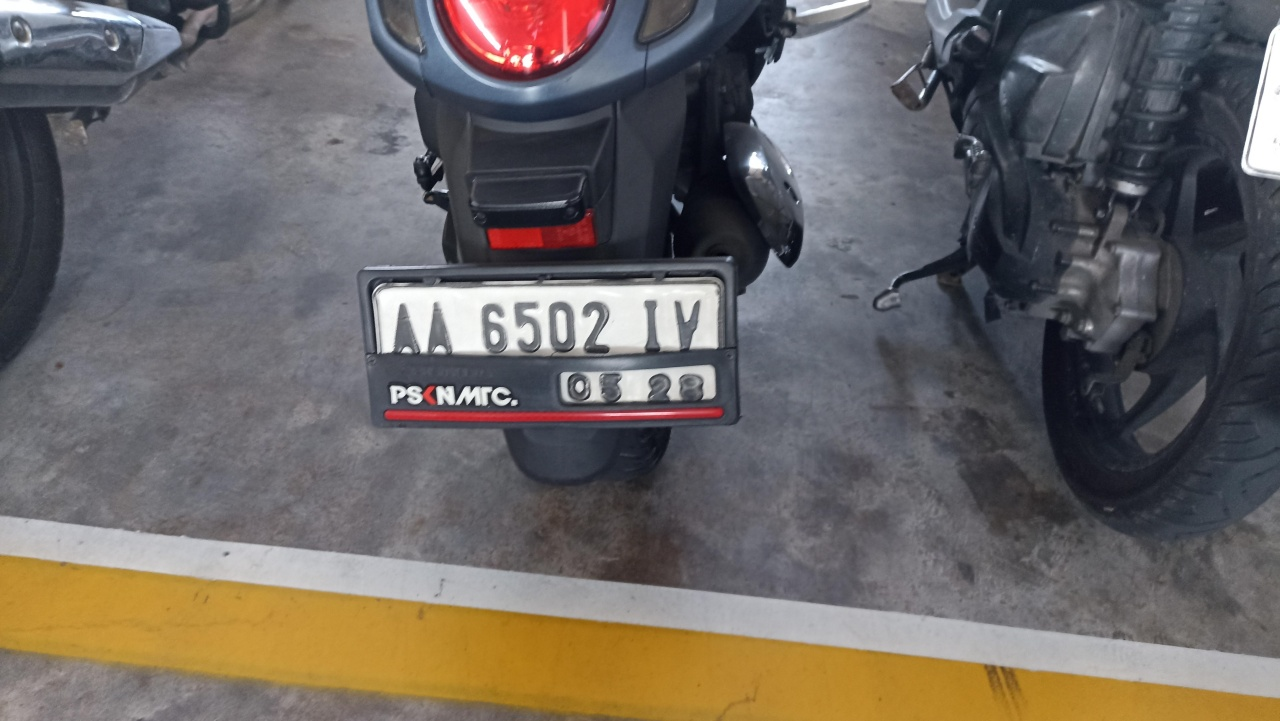plate: (364, 264, 737, 426)
